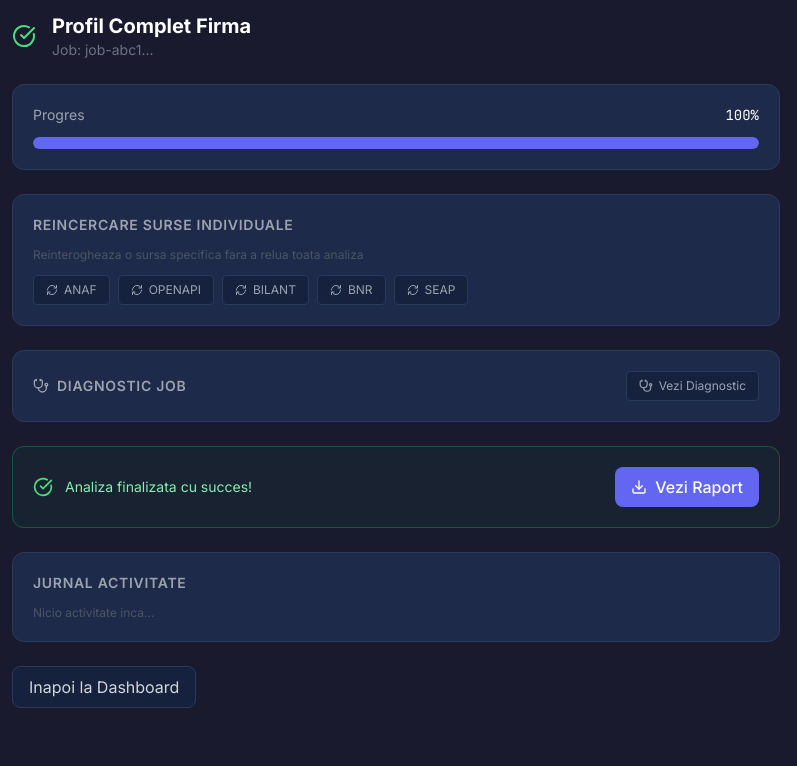
AnalysisProgress — Diagnostic Job › eroare la incarcarea diagnosticului: afiseaza mesaj + toast, nu buton mort
This screenshot has width=797, height=766.
Step 1. Click the button "Vezi Diagnostic" → (692, 386), box [626, 371, 759, 401]
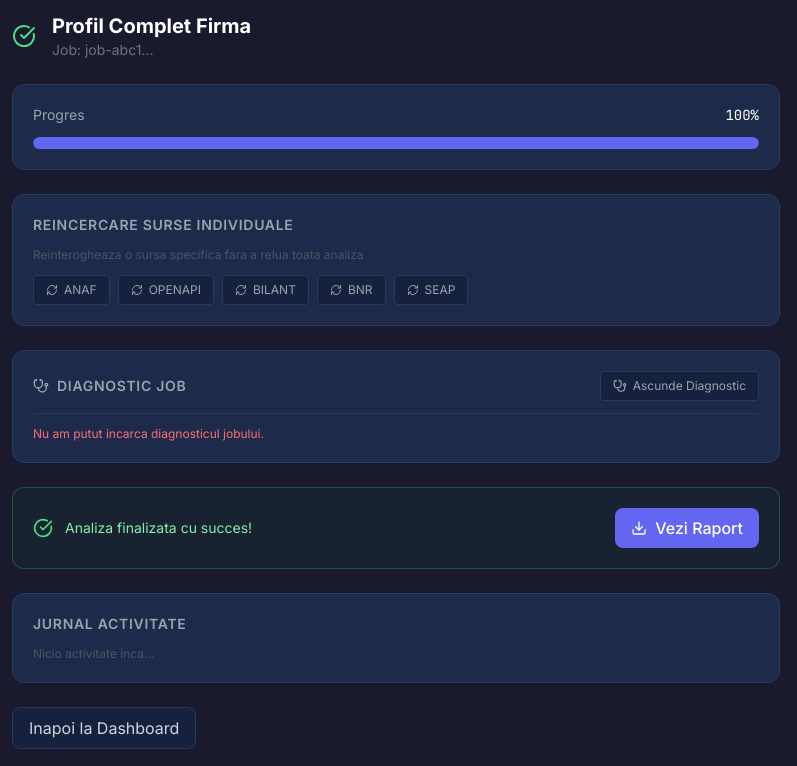
Check: the text "Nu am putut incarca diagnosticul jobului." is shown, box [33, 426, 264, 441]
